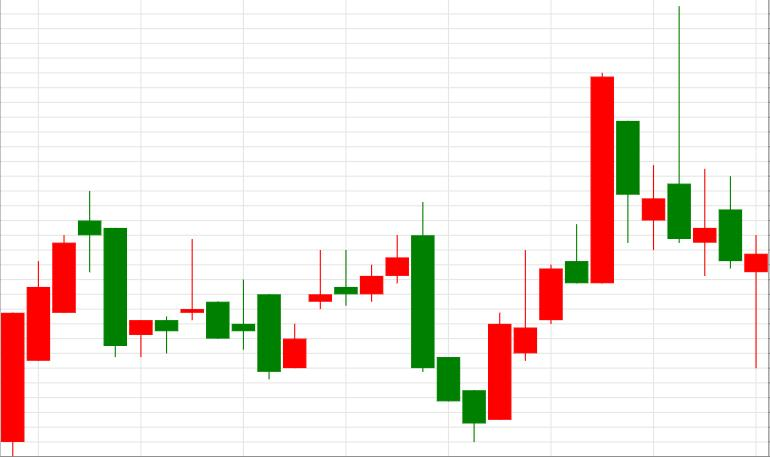bearish_engulfing_fall: (309, 203, 434, 372)
evening_star_fall: (1, 192, 127, 456)
